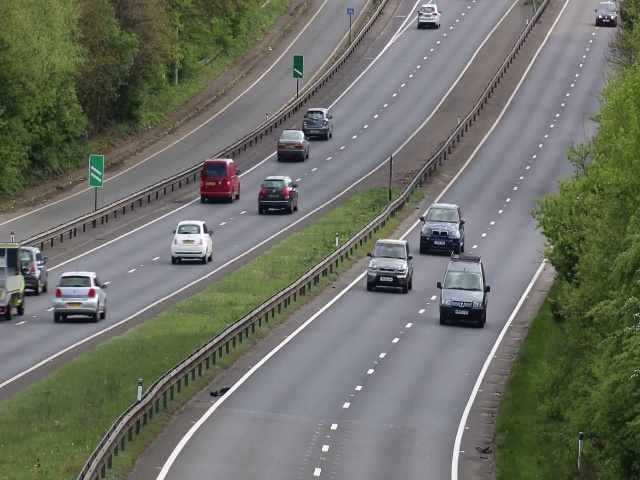car: (436, 258, 489, 326), (53, 270, 109, 320), (366, 236, 414, 294), (418, 200, 466, 255), (170, 217, 214, 264), (198, 157, 242, 203), (1, 244, 25, 322), (257, 173, 299, 215), (23, 244, 49, 291), (302, 105, 334, 140), (276, 129, 310, 160), (416, 3, 441, 28), (594, 1, 618, 26)
